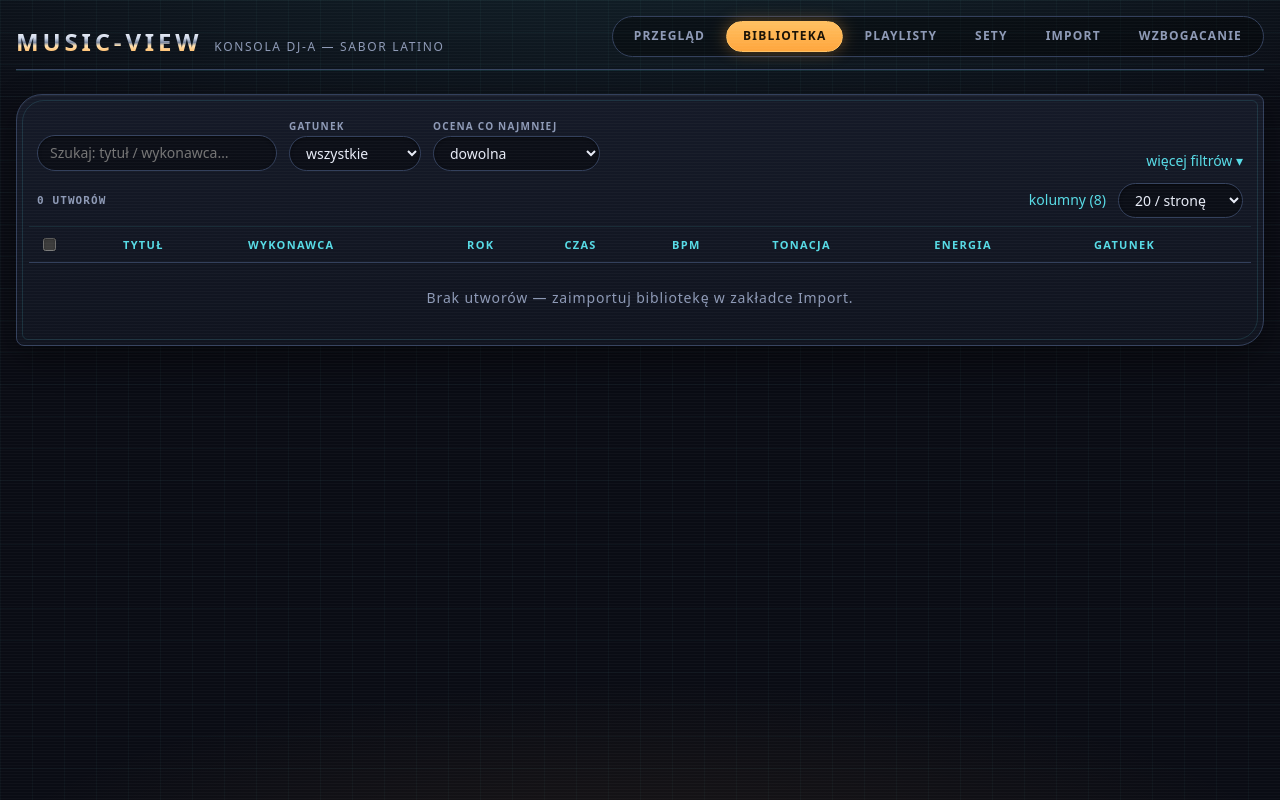
Test: App › ma zakładkę playlist i wchodzi w nią z paska widoków
Check: the element named "Biblioteka" is shown, box [16,94,1264,346]
Click the button with test id "tab-playlists": (901,36) [847,21,954,52]
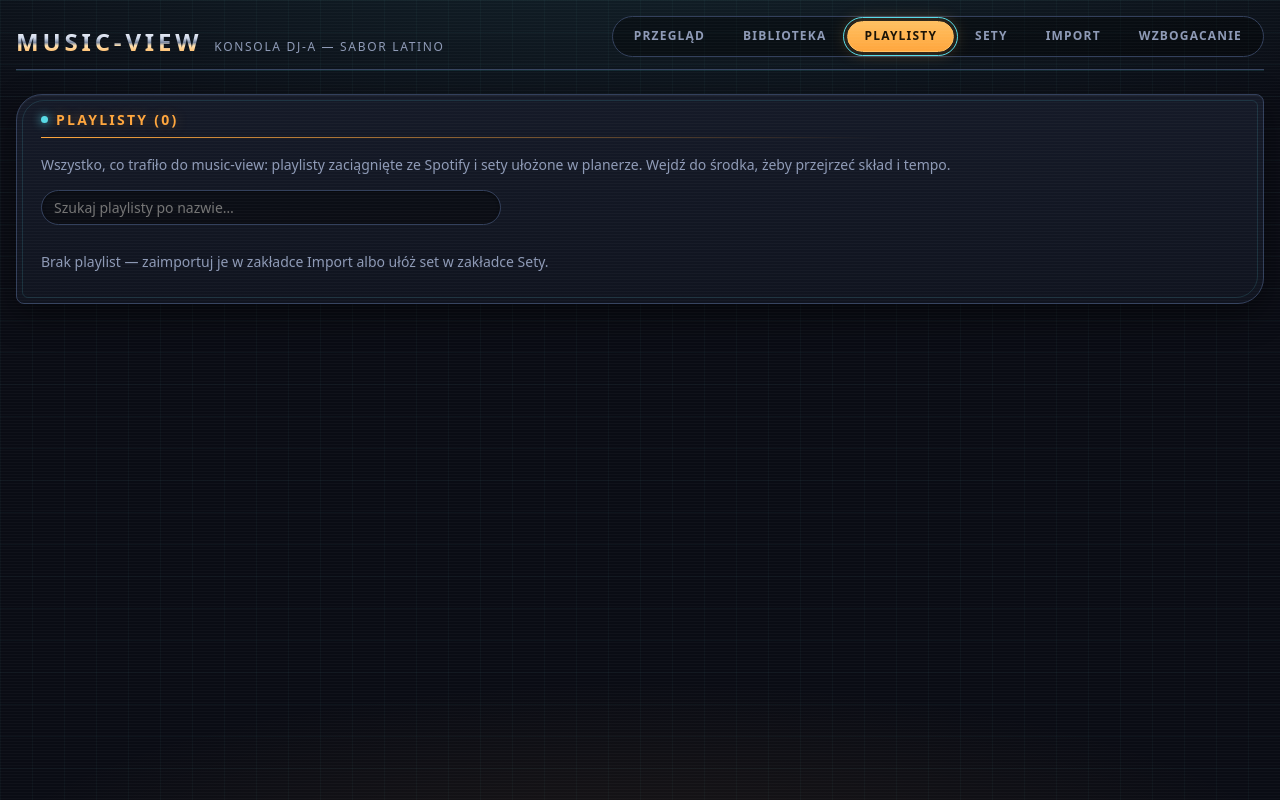
Check: the element "Playlisty" is shown, box [16,94,1264,304]
